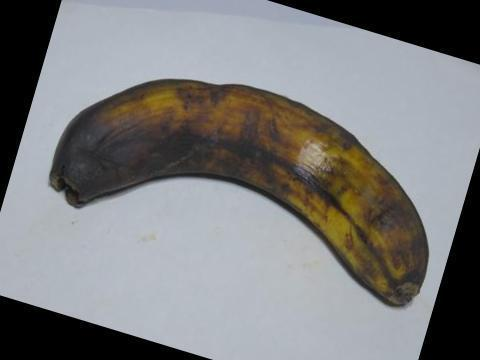overripe: (35, 61, 456, 333)
